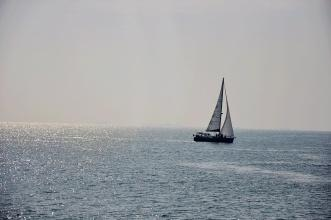fanchuan: (192, 74, 244, 145)
